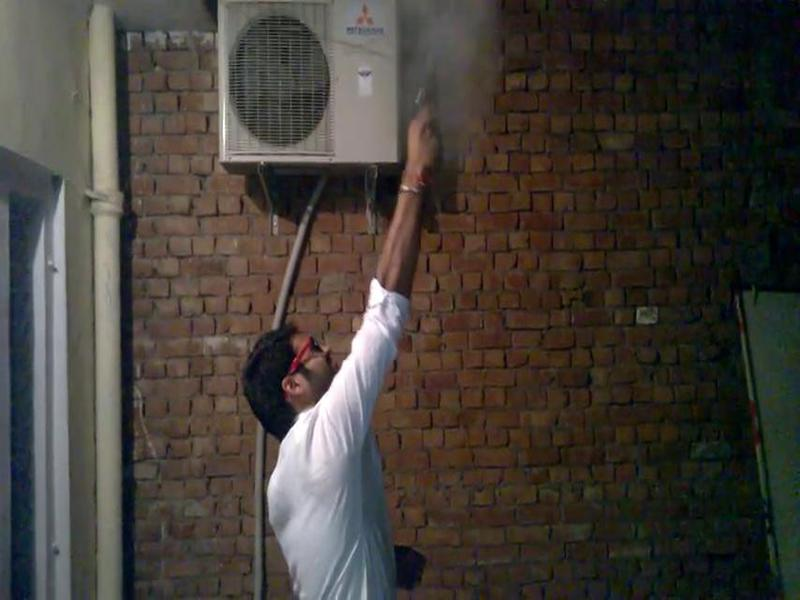Revolver: (394, 56, 457, 171)
